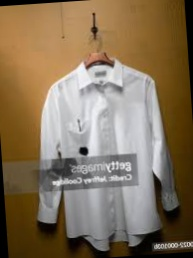ink: (78, 144, 89, 157)
